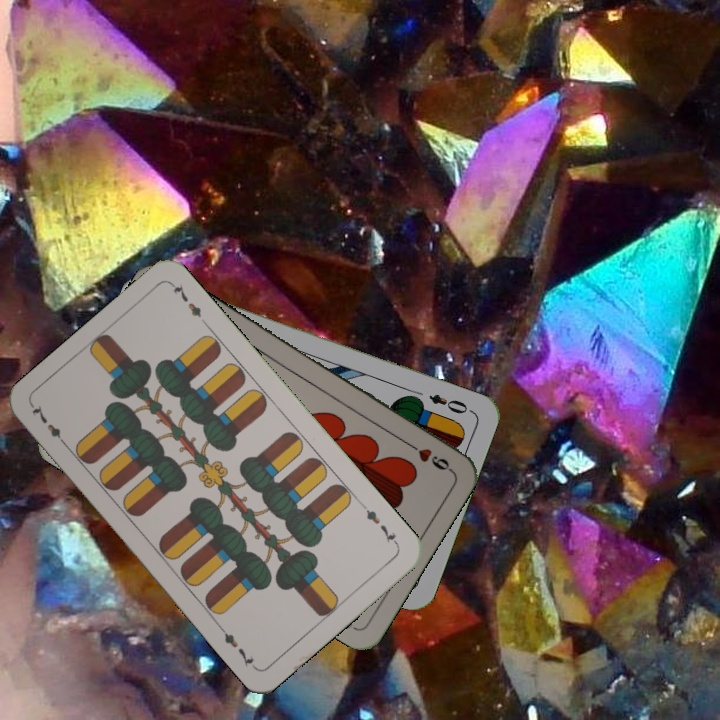E7: (27, 401, 71, 450), (358, 500, 401, 548)
EO: (424, 389, 475, 417)
H9: (401, 437, 454, 474)
